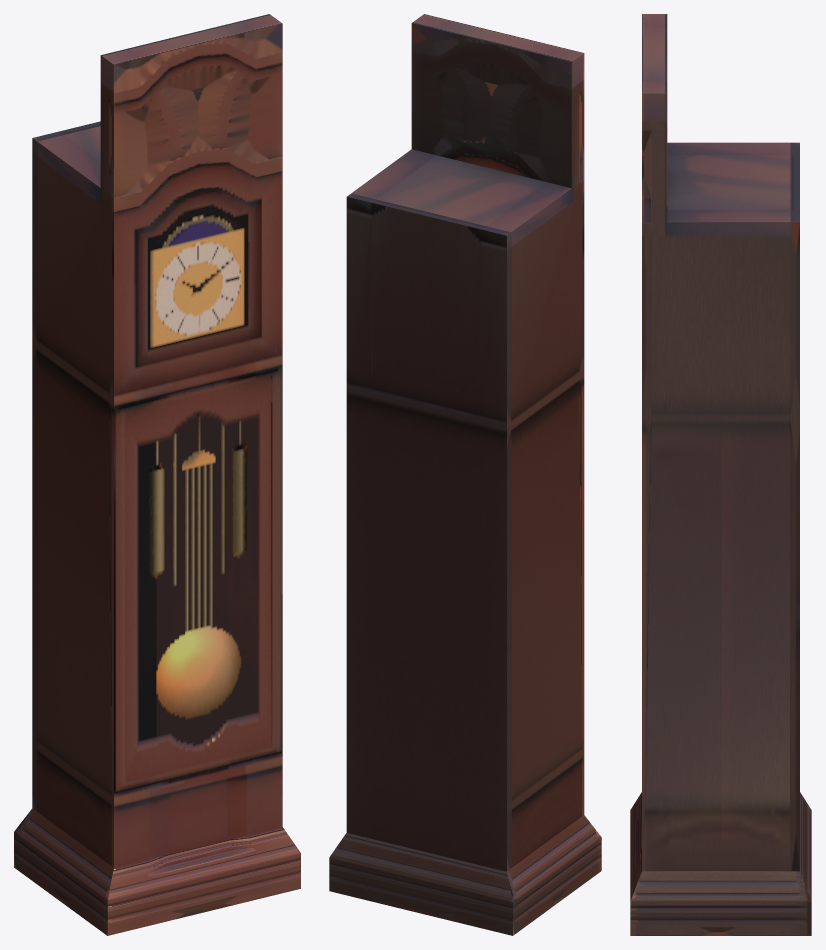
File: grandfatherclock01.fbx
3 renders of one model, left to right at view 1: azimuth 30°, elevation 25°; view 2: azimuth 150°, elevation 25°; view 3: azimuth 270°, elevation 25°, orthographic. The views are drawn at different scales.
Visible parts, largest first — view 1: Cube; view 2: Cube; view 3: Cube.
Part boxes in pixels (<box>): Cube: <box>14,14,300,935</box>; Cube: <box>329,14,601,935</box>; Cube: <box>630,14,811,935</box>.
Size of the model in its own units: 0.608 by 0.5091 by 2.59.
Materials: 1 (1 with a texture image).
